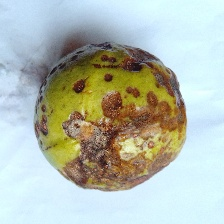guava: (32, 34, 201, 219)
